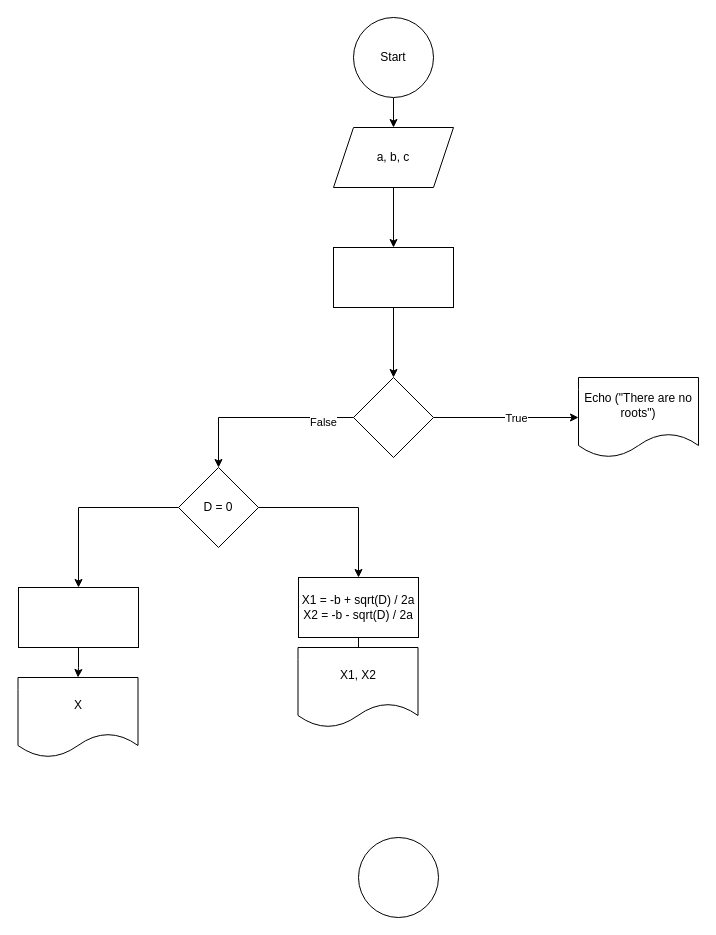
Some shapes in this 716 by 935 pixel diagram are drawn without their labels. The centre of each missing label's shape, as x and y in pixels:
D < 0: pixel 393 417
D = (b^2 - 4ac): pixel 393 277
End: pixel 398 877
X1 = -b/2a: pixel 78 617
